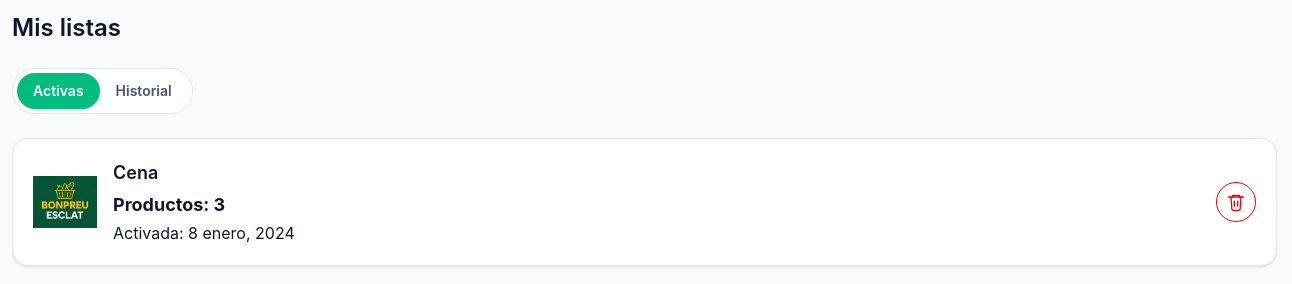
Test: ListsScreen › muestra en historial la fecha completada formateada y el logo del proveedor
Click the tab "Historial".
click(144, 91)  # box [100, 73, 188, 109]
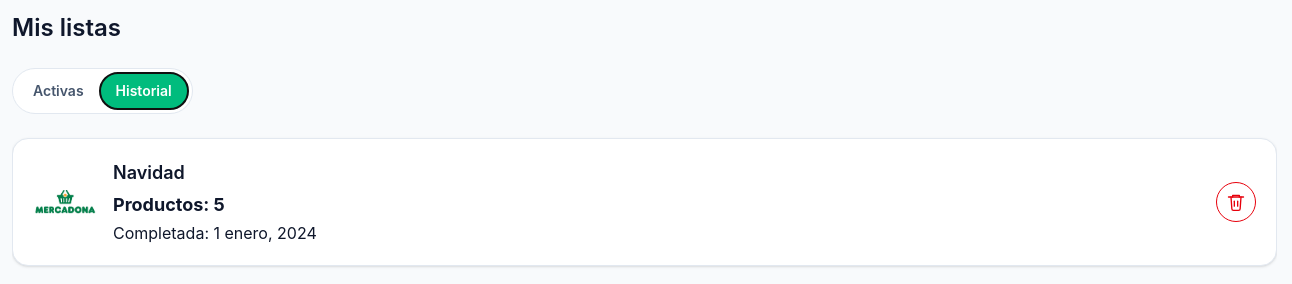
Expected: the button with test id "list-card-completed-1" does not show "Mercadona", [12, 138, 1277, 266]
Now the picture named "Logo de Mercadona" is shown, box [33, 190, 97, 214]
